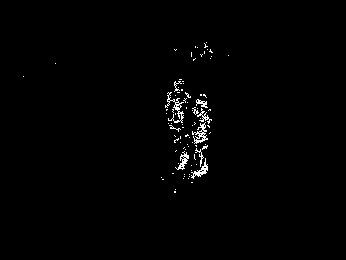person: (163, 78, 189, 171), (187, 89, 213, 178)
